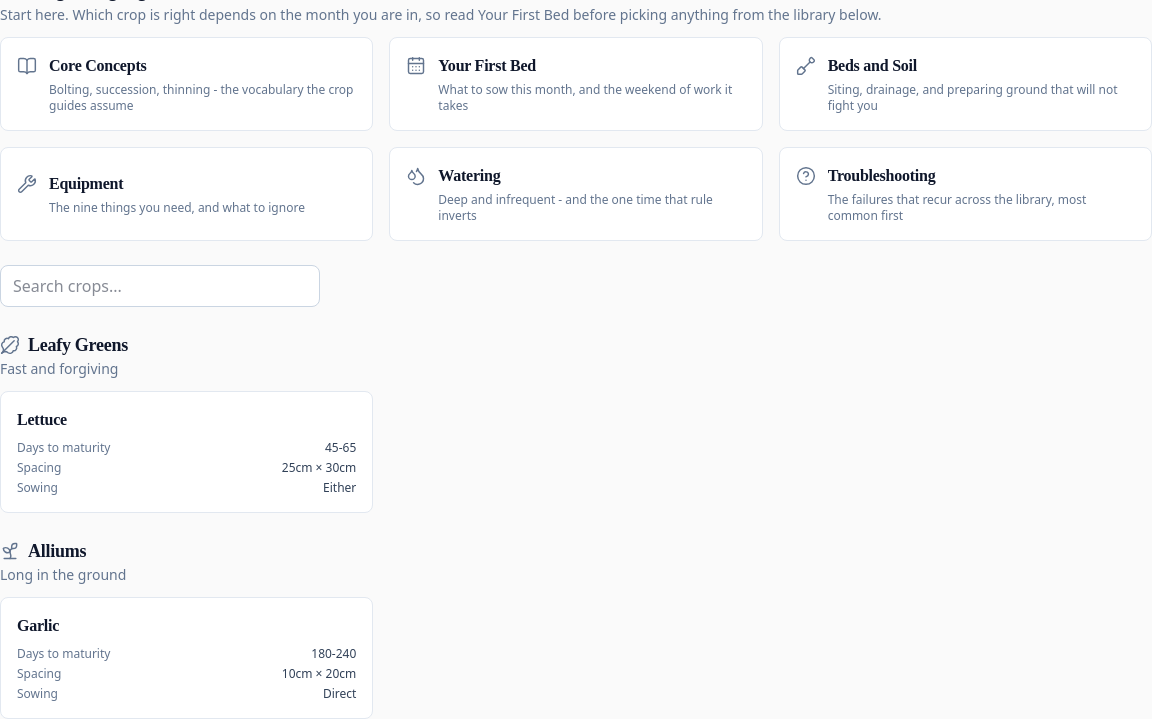
Scenario: VegetableGuideLibrary › shows a plain message for a guide whose status is still stub
The image size is (1152, 719).
(page scrolled)
Click the heading "Garlic": (38, 626) [17,617,59,634]
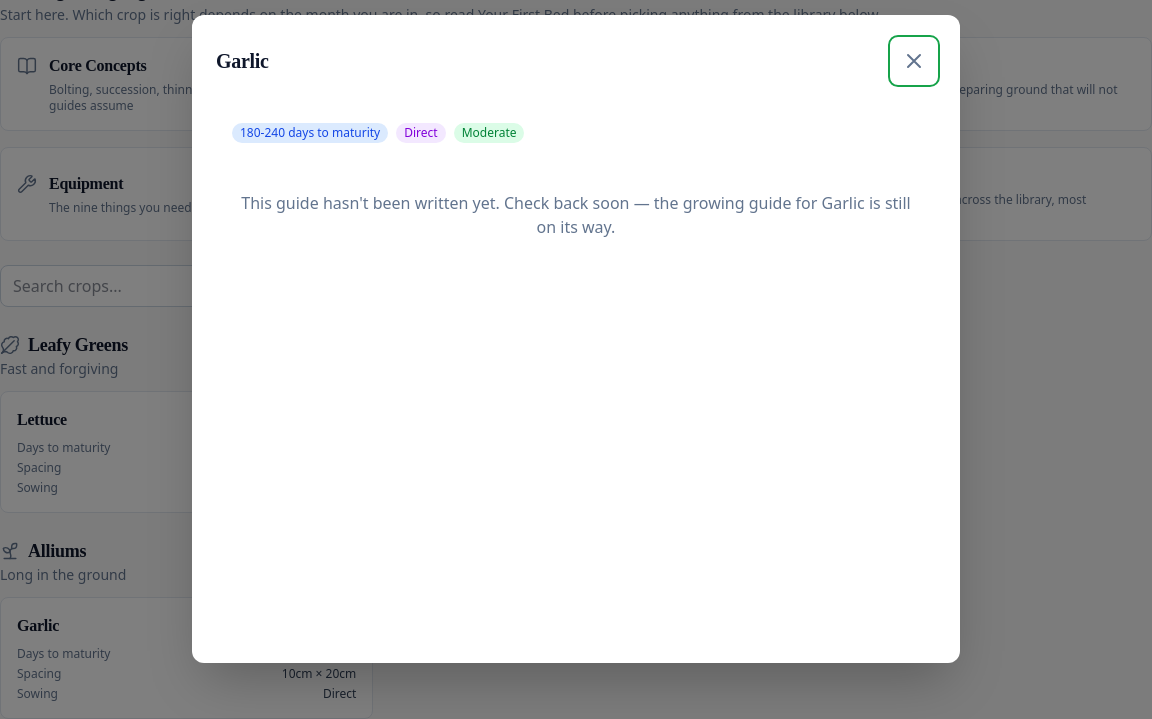
Check: the text "hasn't been written yet" is shown, box [241,192,817,214]
